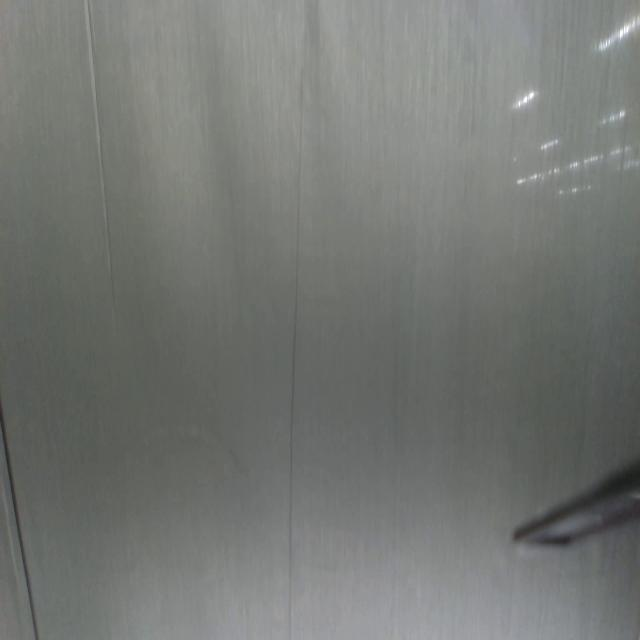crease: (286, 66, 306, 640), (80, 0, 117, 306), (0, 400, 43, 640)
